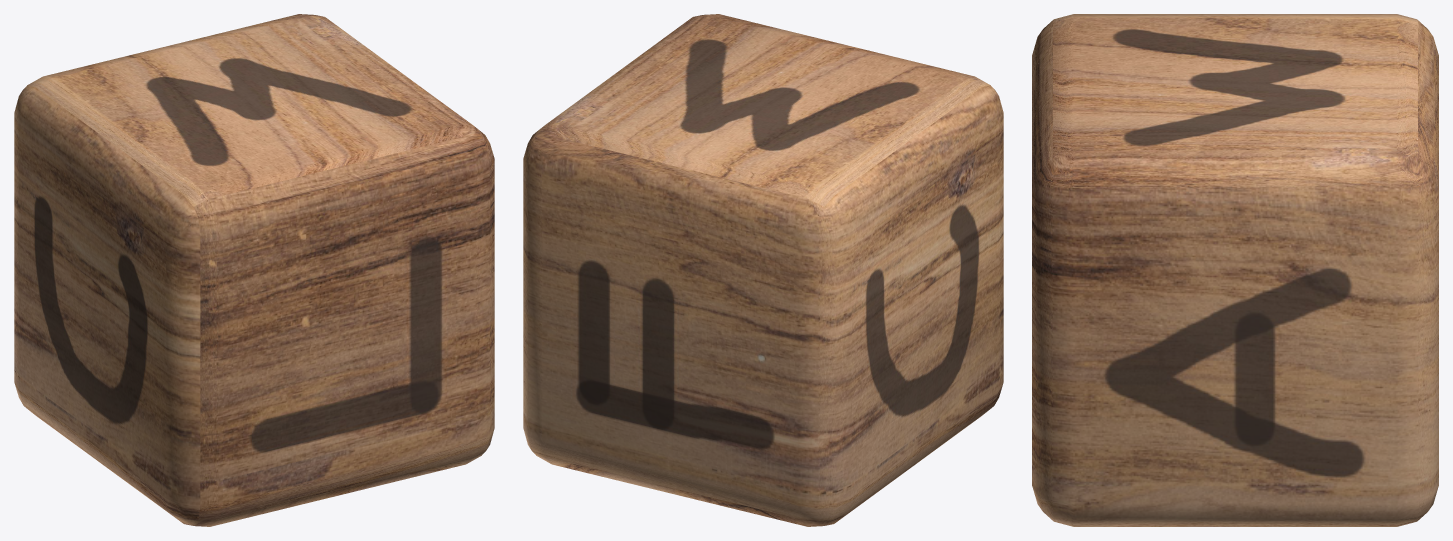
Rendered from lettercube.glb.
The picture shows the model from 3 angles, left to right: view 1: azimuth 30°, elevation 25°; view 2: azimuth 150°, elevation 25°; view 3: azimuth 270°, elevation 25°; orthographic projection. The views are drawn at different scales.
Parts seen in each view (by area): view 1: Cube; view 2: Cube; view 3: Cube.
Part boxes in pixels (x1,y1,x2,y2): Cube: (14, 14, 494, 526); Cube: (523, 14, 1003, 526); Cube: (1032, 14, 1438, 526).
Size of the model in its own units: 2 by 2 by 2.
Materials: 1 (1 with a texture image).
